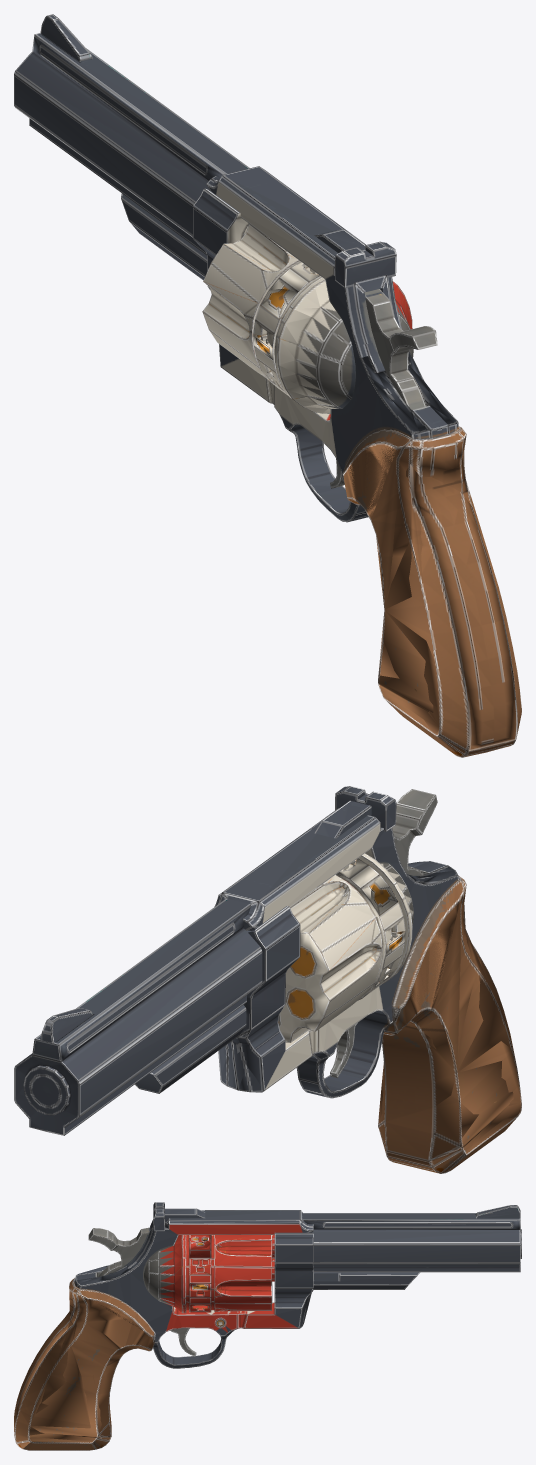
Rendered from magnum.glb.
The picture shows the model from 3 angles, top to bottom: view 1: azimuth 30°, elevation 25°; view 2: azimuth 150°, elevation 25°; view 3: azimuth 270°, elevation 25°; orthographic projection. The views are drawn at different scales.
Parts seen in each view (by area): view 1: Body, Cylinder, Hammer; view 2: Body, Cylinder, Hammer; view 3: Body, Cylinder, Hammer.
Part boxes in pixels (x1=…): Body: x1=14, y1=14, x2=521, y2=757; Cylinder: x1=202, y1=223, x2=412, y2=413; Hammer: x1=342, y1=292, x2=437, y2=391; Body: x1=14, y1=786, x2=521, y2=1173; Cylinder: x1=278, y1=853, x2=412, y2=1042; Hammer: x1=392, y1=789, x2=437, y2=887; Body: x1=14, y1=1202, x2=521, y2=1450; Cylinder: x1=174, y1=1235, x2=274, y2=1313; Hammer: x1=88, y1=1227, x2=151, y2=1272.
Bounding box in the file's own units: 0.0552 × 0.1648 × 0.3185.
Materials: 1 (1 with a texture image).
